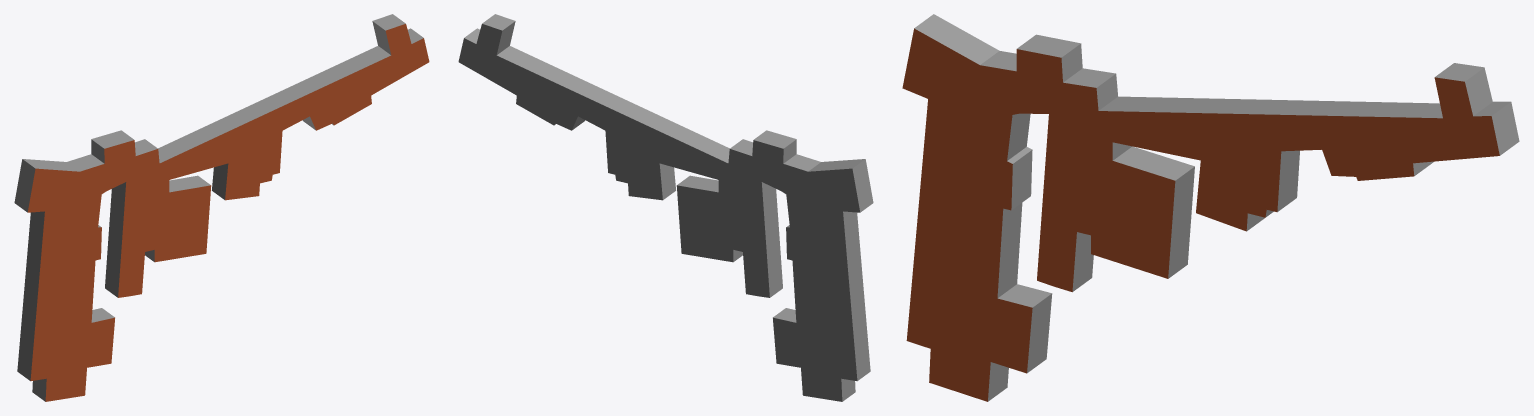
Rendered from construction_3073_assumed_A_Casa_h6m.obj.
3 views of the same model, side by side, from view 1: azimuth 30°, elevation 25°; view 2: azimuth 150°, elevation 25°; view 3: azimuth 330°, elevation 25° (orthographic). The views are drawn at different scales.
Parts seen in each view (by area): view 1: construction_3073_assumed_A_Casa; view 2: construction_3073_assumed_A_Casa; view 3: construction_3073_assumed_A_Casa.
Part boxes in pixels (x1,y1,x2,y2): construction_3073_assumed_A_Casa: [14, 14, 429, 401]; construction_3073_assumed_A_Casa: [458, 14, 873, 401]; construction_3073_assumed_A_Casa: [902, 14, 1519, 401].
Size of the model in its own units: 105 by 73.48 by 6.
